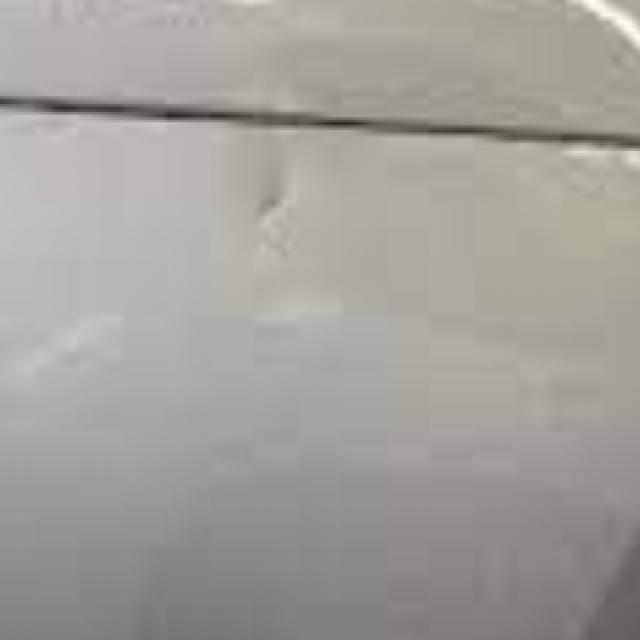dents: (238, 156, 325, 278)
